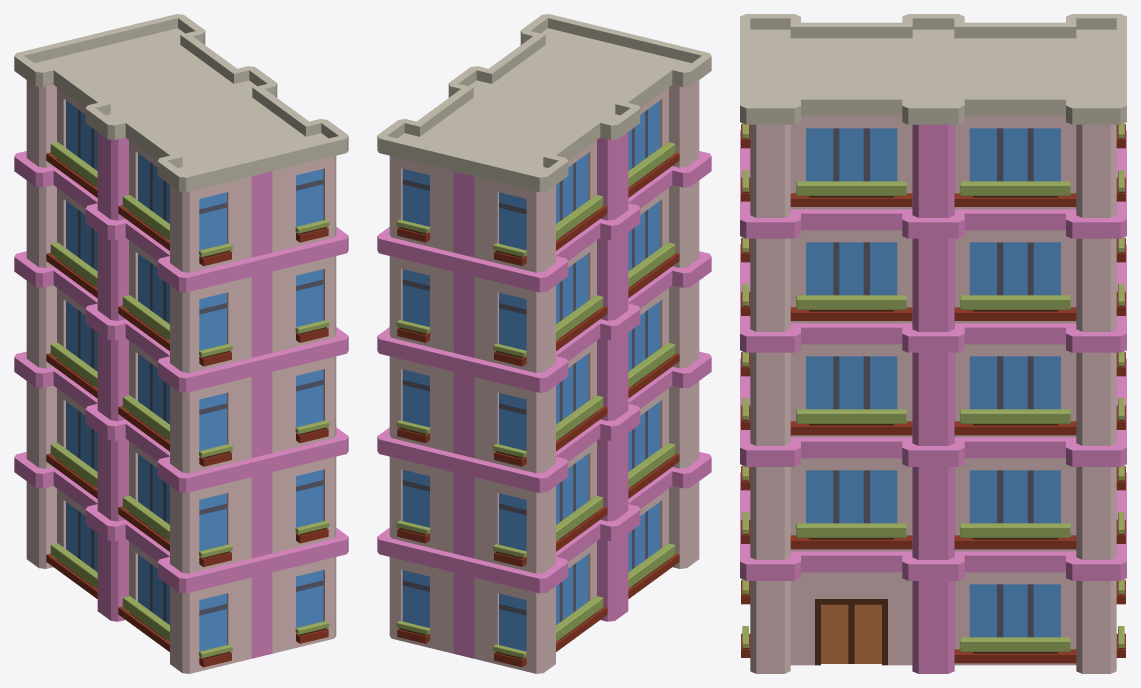
The picture shows the model from 3 angles, left to right: view 1: azimuth 30°, elevation 25°; view 2: azimuth 150°, elevation 25°; view 3: azimuth 270°, elevation 25°; orthographic projection. The views are drawn at different scales.
Visible parts, largest first — view 1: Predio 2.003; view 2: Predio 2.003; view 3: Predio 2.003.
Boxes of the visible parts, box(x1,y1,x2,y2) form: Predio 2.003: box(14, 14, 348, 673); Predio 2.003: box(377, 14, 711, 673); Predio 2.003: box(740, 14, 1126, 673).
Bounding box in the file's own units: 3541 × 9992 × 6145.
